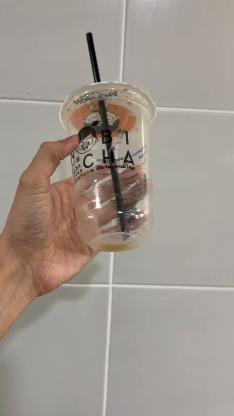Plastic Cup: (60, 80, 158, 254)
